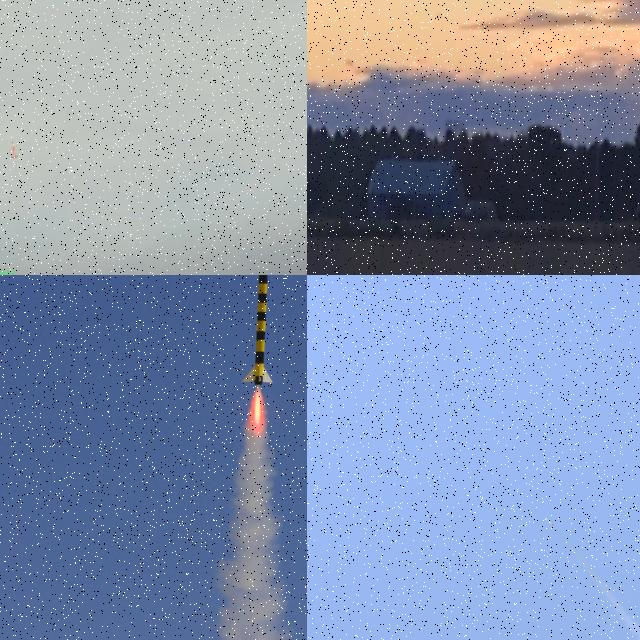Rocket: (239, 275, 273, 386), (10, 141, 18, 158), (545, 518, 556, 527)
